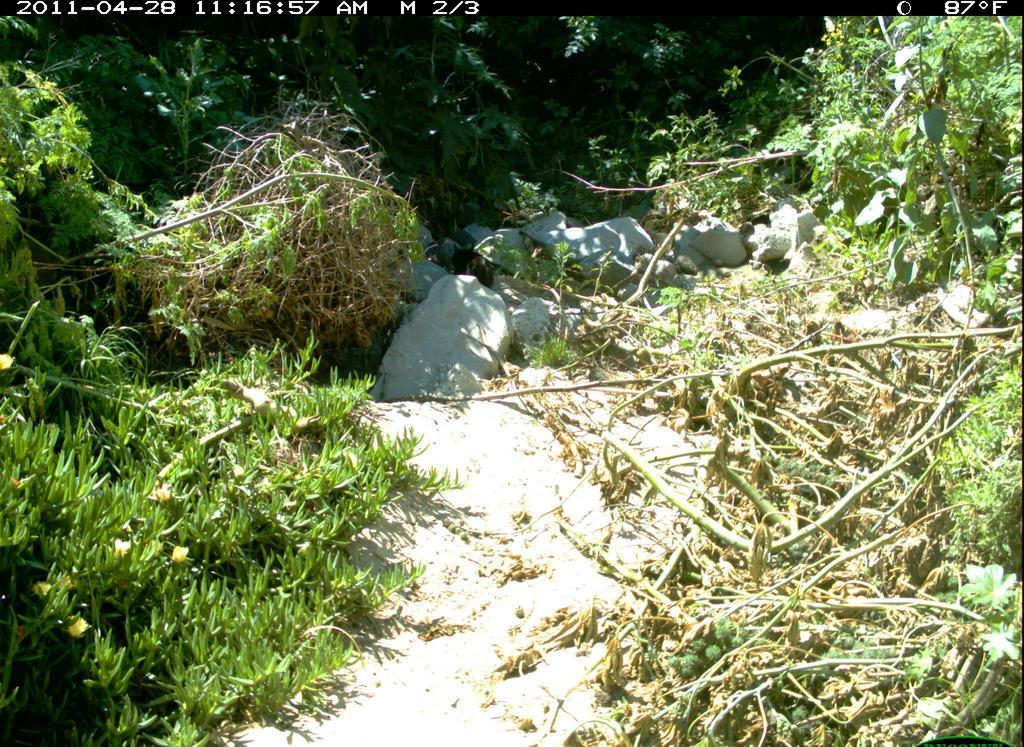cat: (444, 240, 501, 298)
